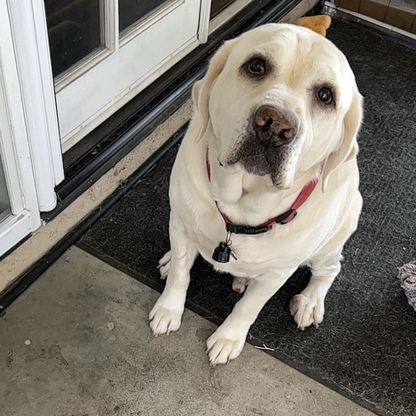labrado: (142, 14, 370, 371)
